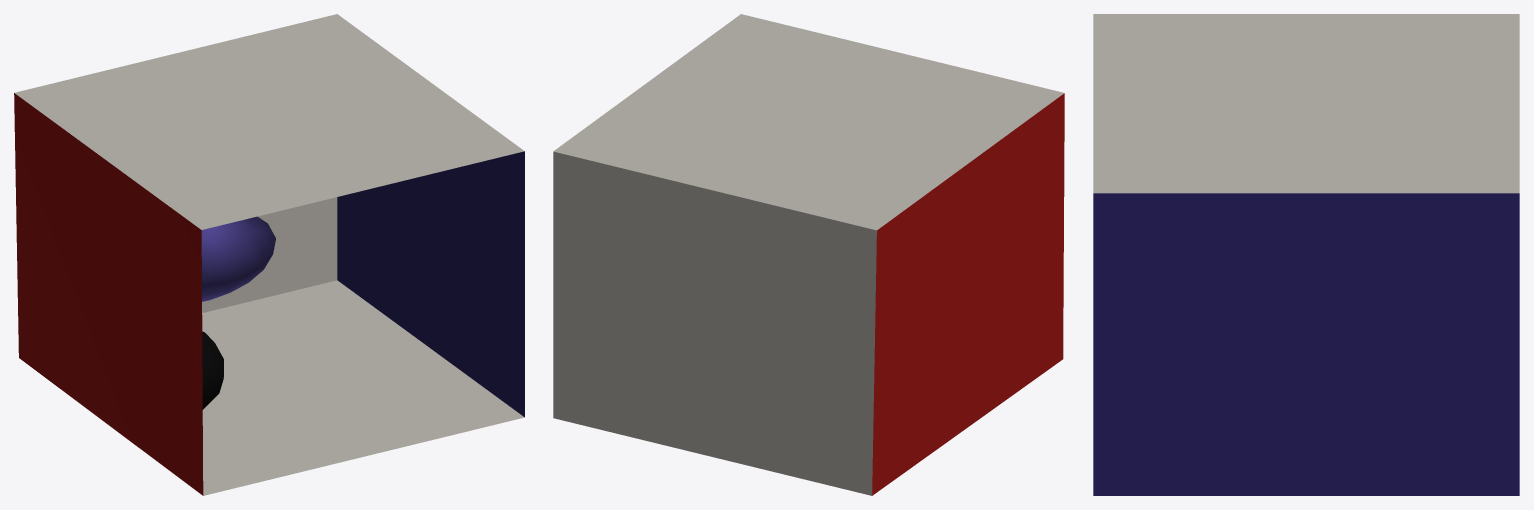
The model's file is CornellBox-Ellipsoid-57.obj.
3 renders of one model, left to right at view 1: azimuth 30°, elevation 25°; view 2: azimuth 150°, elevation 25°; view 3: azimuth 270°, elevation 25°, orthographic. The views are drawn at different scales.
Parts seen in each view (by area): view 1: ceiling, leftWall, floor, rightWall, backWall, leftSphere, rightSphere; view 2: backWall, ceiling, leftWall; view 3: rightWall, ceiling.
Boxes of the visible parts, <box> form: ceiling: <box>14,14,524,229</box>; leftWall: <box>14,93,203,495</box>; floor: <box>202,280,524,495</box>; rightWall: <box>337,151,524,417</box>; backWall: <box>202,197,337,312</box>; leftSphere: <box>201,216,275,301</box>; rightSphere: <box>202,331,223,409</box>; backWall: <box>553,151,876,495</box>; ceiling: <box>553,14,1064,230</box>; leftWall: <box>872,93,1064,495</box>; rightWall: <box>1093,193,1519,495</box>; ceiling: <box>1093,14,1519,193</box>.
Bounding box in the file's own units: 2.02 × 1.59 × 2.03.
